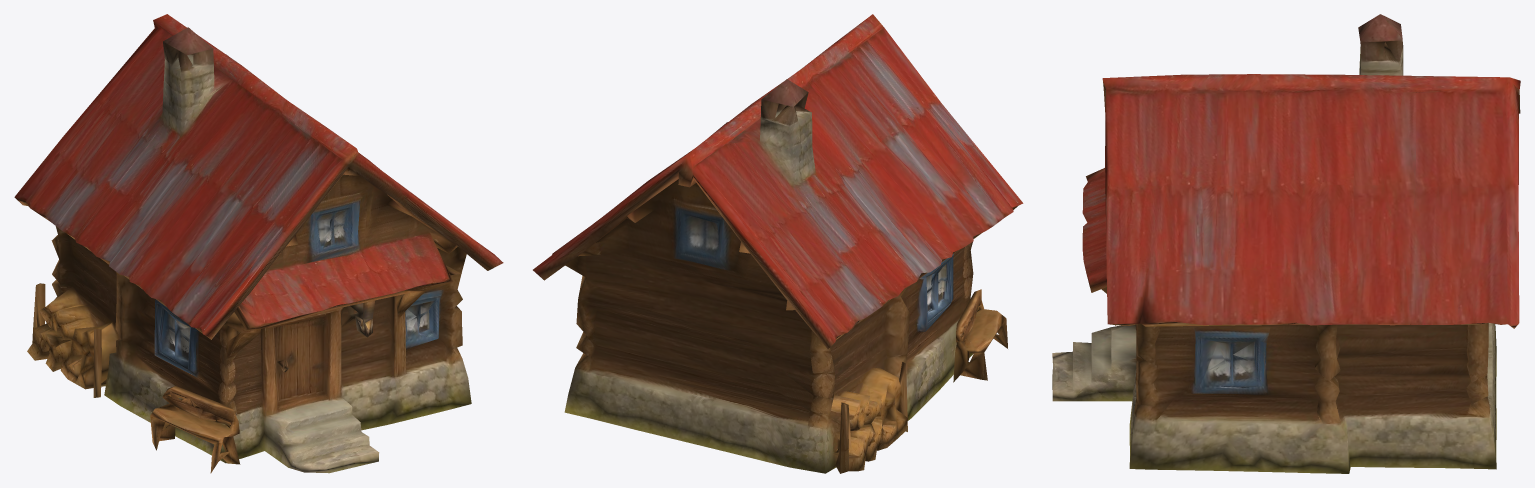
The model's file is yayla.glb.
3 renders of one model, left to right at view 1: azimuth 30°, elevation 25°; view 2: azimuth 150°, elevation 25°; view 3: azimuth 270°, elevation 25°, orthographic. The views are drawn at different scales.
Visible parts, largest first — view 1: tripo_node_bbcf3a30-fd85-4697-9fed-b9d0fdf18fac; view 2: tripo_node_bbcf3a30-fd85-4697-9fed-b9d0fdf18fac; view 3: tripo_node_bbcf3a30-fd85-4697-9fed-b9d0fdf18fac.
Part boxes in pixels (box(x1,y1,x2,y2)): tripo_node_bbcf3a30-fd85-4697-9fed-b9d0fdf18fac: box(14, 14, 503, 473); tripo_node_bbcf3a30-fd85-4697-9fed-b9d0fdf18fac: box(533, 14, 1023, 473); tripo_node_bbcf3a30-fd85-4697-9fed-b9d0fdf18fac: box(1052, 14, 1520, 473).
Bounding box in the file's own units: 0.8165 × 0.847 × 0.9806.
1 material, 1 textured.
